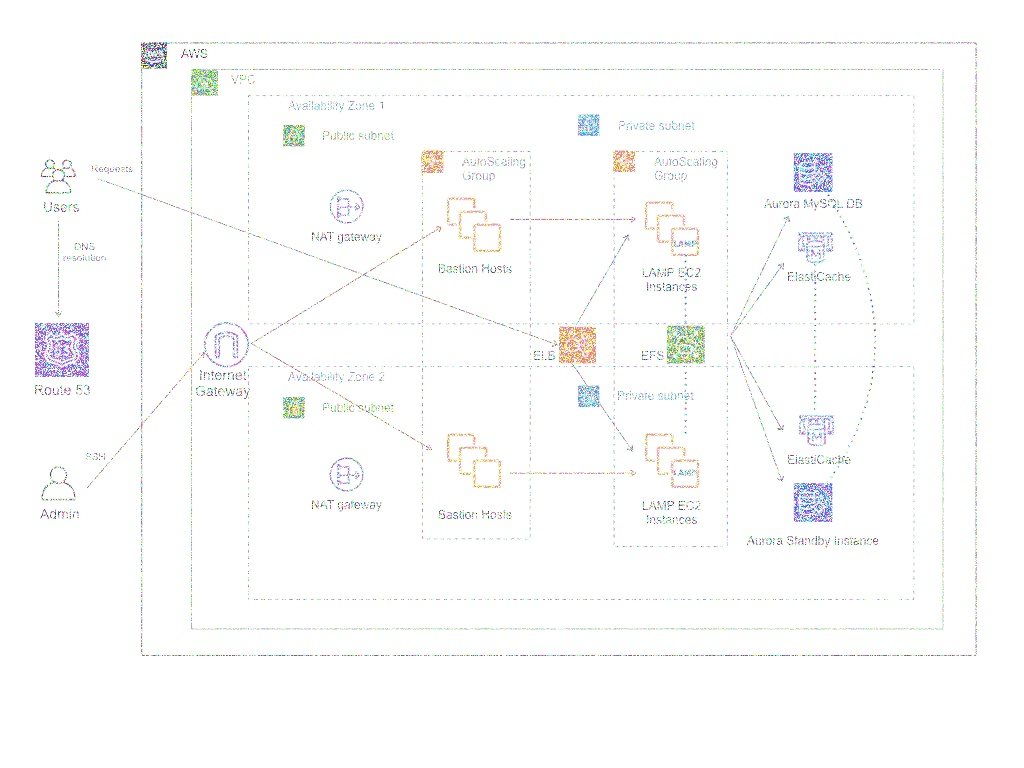Aurora: (792, 481, 835, 525), (792, 152, 835, 194)
Auto Scaling Group: (420, 149, 445, 173), (612, 149, 637, 173)
EC2: (442, 192, 507, 257), (638, 197, 703, 261), (640, 428, 705, 492), (443, 429, 506, 492)
EFS: (666, 324, 707, 365)
ELB: (556, 324, 600, 364)
ElastiCache: (790, 226, 838, 266), (792, 410, 837, 449)
Internet Gateway: (202, 321, 251, 370)
NAT Gateway: (328, 189, 368, 229), (328, 453, 365, 495)
Private Subnet: (575, 111, 603, 139), (576, 383, 602, 409)
Public Subnet: (281, 121, 309, 149), (280, 396, 306, 420)
Route53: (33, 322, 90, 378)
Users: (39, 457, 80, 506), (36, 153, 80, 197)
aws: (138, 42, 171, 71)
